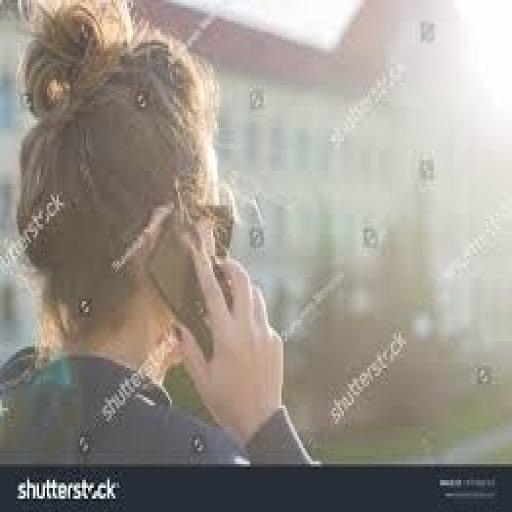calling: (0, 0, 320, 466)
